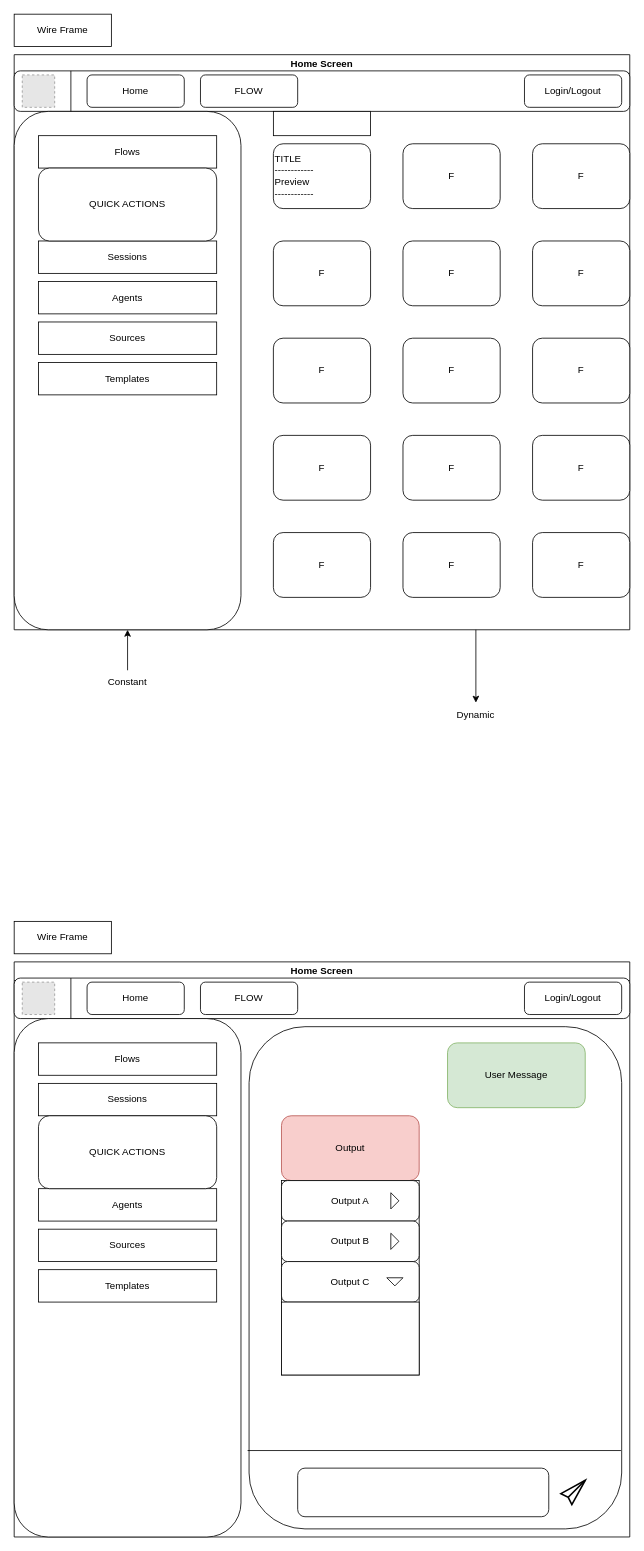
Some shapes in this 644 by 1551 pixel diagram are drawn without their labels. Grey dashed boxes stand in for pictures. The shapes that lost their labels are listed below. From the top down, each one's centre as x and y in pixels, then its label:
At (x=322, y=123): "Ordered by relevance".
At (x=350, y=1338): "Output From Agent C".
At (x=423, y=1492): "Dynamic Input Based on Type".
